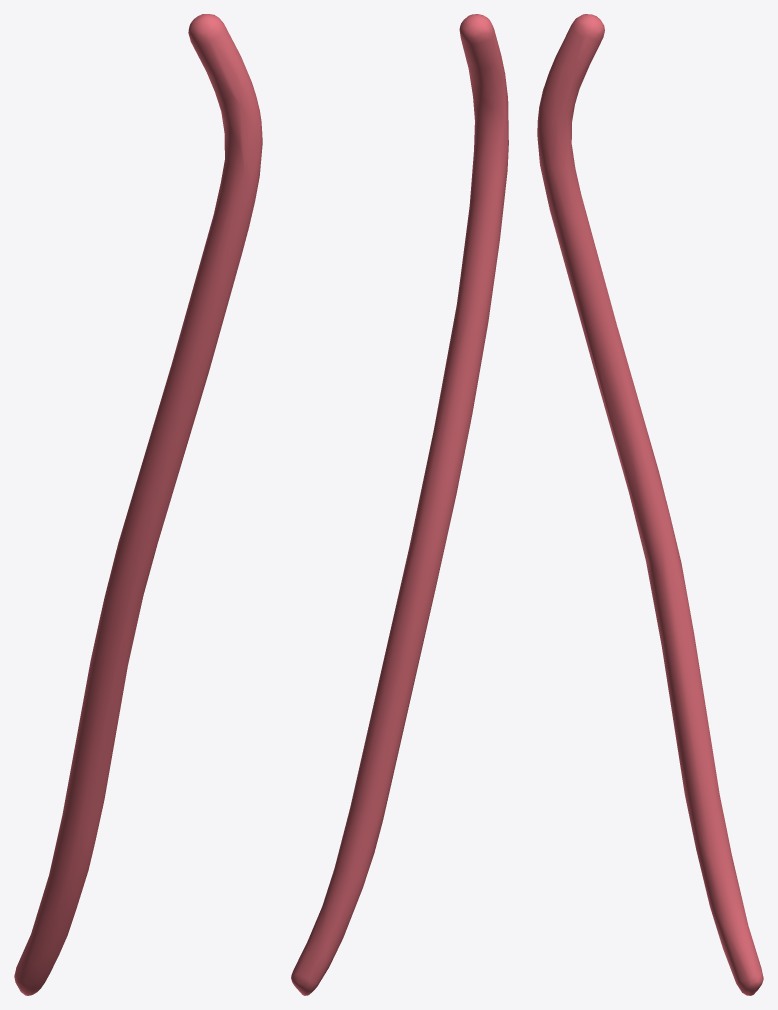
Rendered from fma21189_fj2102.glb.
3 views of the same model, side by side, from view 1: azimuth 90°, elevation 25°; view 2: azimuth 150°, elevation 25°; view 3: azimuth 270°, elevation 25° (orthographic). The views are drawn at different scales.
Visible parts, largest first — view 1: FMA21189_FJ2102; view 2: FMA21189_FJ2102; view 3: FMA21189_FJ2102.
Part boxes in pixels (bbox=[...]): FMA21189_FJ2102: bbox=[14, 14, 262, 995]; FMA21189_FJ2102: bbox=[291, 14, 508, 995]; FMA21189_FJ2102: bbox=[537, 14, 763, 995].
Bounding box in the file's own units: 0.0421 × 0.3233 × 0.0709.
